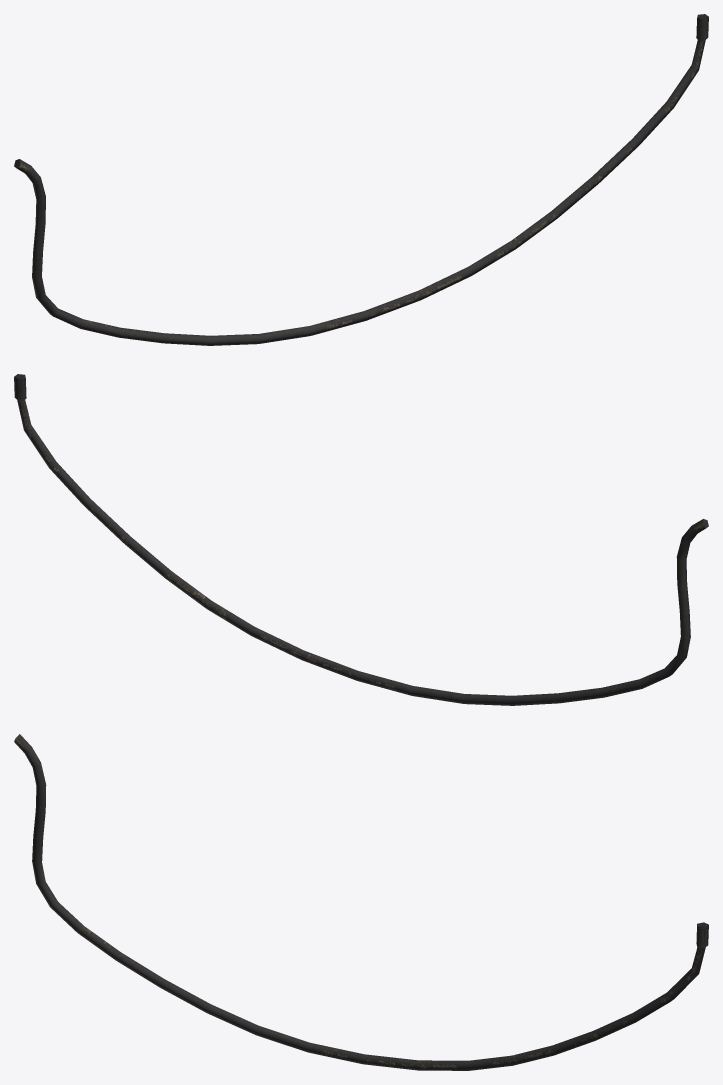
File: plane_wreckage_cable_04.dae
The picture shows the model from 3 angles, top to bottom: view 1: azimuth 30°, elevation 25°; view 2: azimuth 150°, elevation 25°; view 3: azimuth 330°, elevation 25°; orthographic projection.
Visible parts, largest first — view 1: plane_wreckage_cable_04; view 2: plane_wreckage_cable_04; view 3: plane_wreckage_cable_04.
Boxes of the visible parts, box(x1,y1,x2,y2) form: plane_wreckage_cable_04: box(14, 14, 708, 345); plane_wreckage_cable_04: box(14, 374, 708, 705); plane_wreckage_cable_04: box(14, 734, 708, 1070).
Bounding box in the file's own units: 132 × 45.09 × 2.01.
